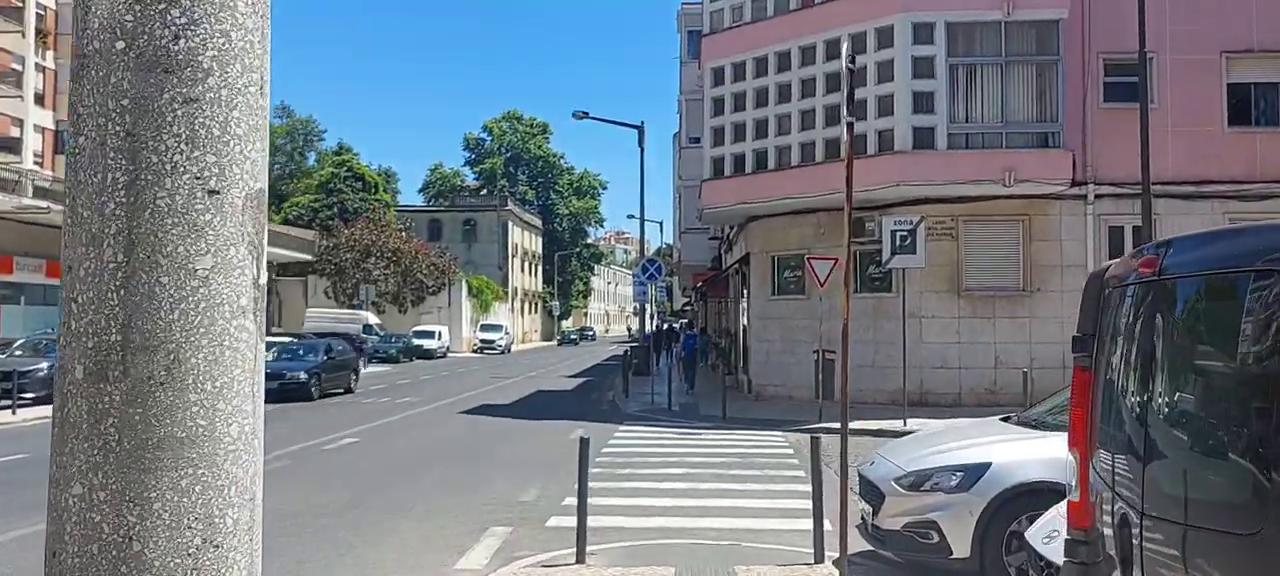cedencia de passagem: (801, 254, 841, 293)
